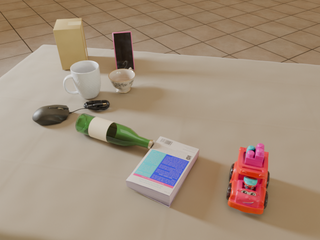book: (126, 137, 199, 207)
bottle: (76, 114, 155, 150)
box: (53, 18, 88, 70)
cup: (63, 60, 101, 99), (109, 67, 135, 93)
mouse: (32, 105, 72, 125)
phone: (112, 31, 135, 70)
toy_car: (226, 143, 270, 214)
